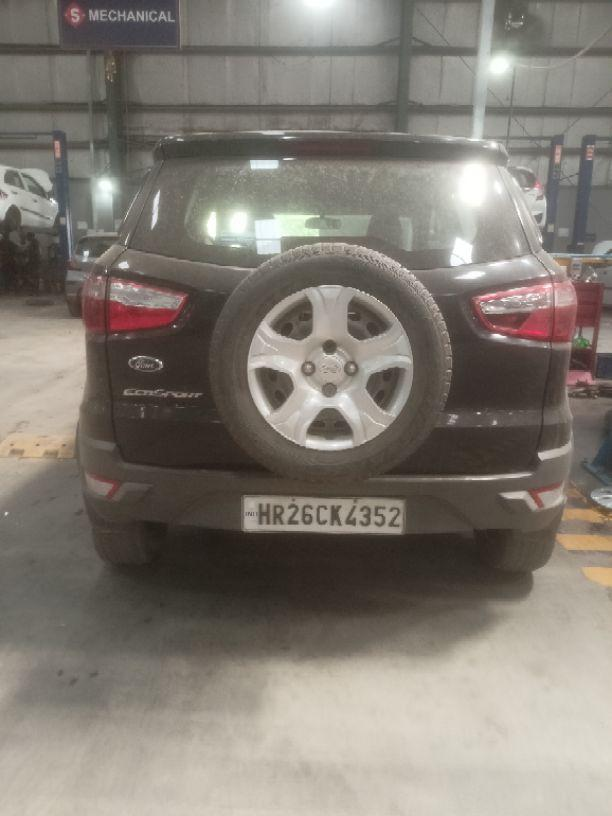license_plate: (239, 493, 407, 535)
